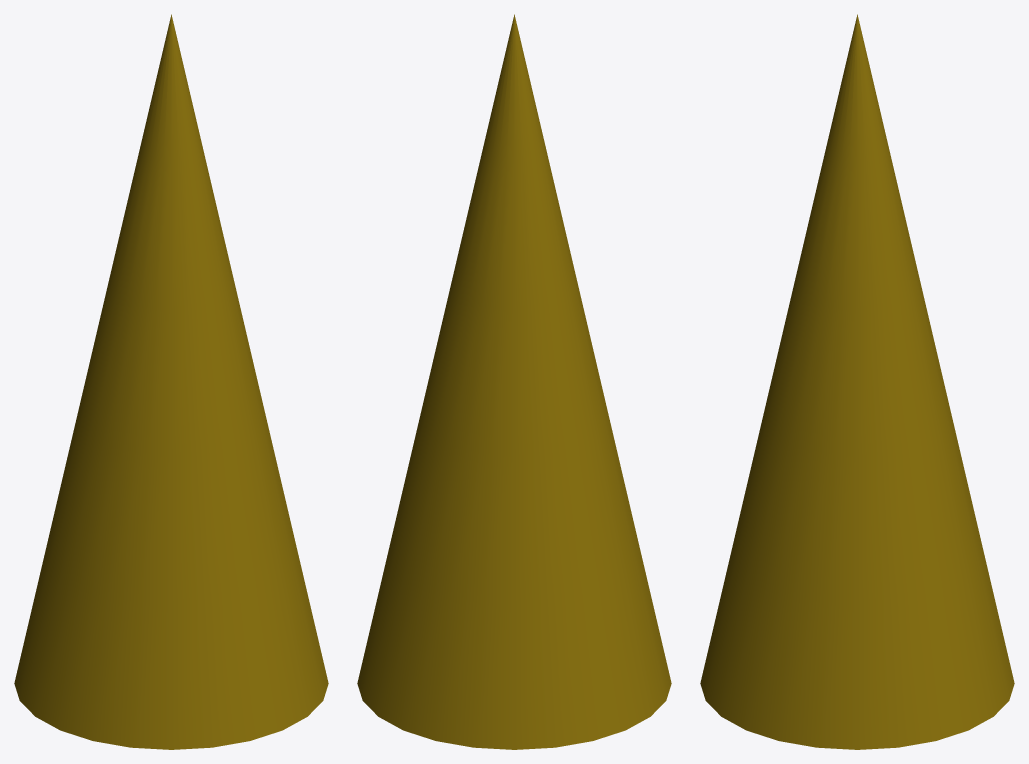
Rendered from cone_big.obj.
The picture shows the model from 3 angles, left to right: view 1: azimuth 30°, elevation 25°; view 2: azimuth 150°, elevation 25°; view 3: azimuth 270°, elevation 25°; orthographic projection.
Visible parts, largest first — view 1: Cone001; view 2: Cone001; view 3: Cone001.
Boxes of the visible parts, left/top/right/bottom form: Cone001: left=14, top=14, right=328, bottom=749; Cone001: left=357, top=14, right=671, bottom=749; Cone001: left=700, top=14, right=1014, bottom=749.
Bounding box in the file's own units: 11.9 × 27.96 × 11.9.
